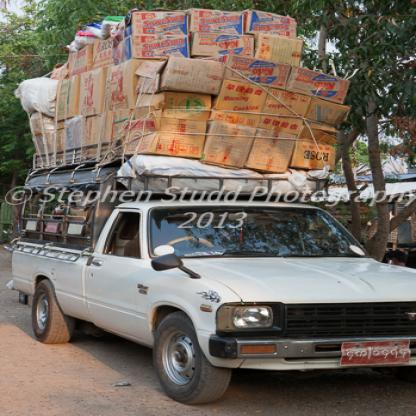overloaded-truck: (29, 0, 414, 397)
